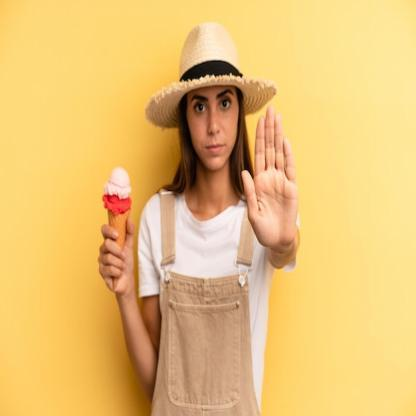stop: (240, 103, 301, 247)
